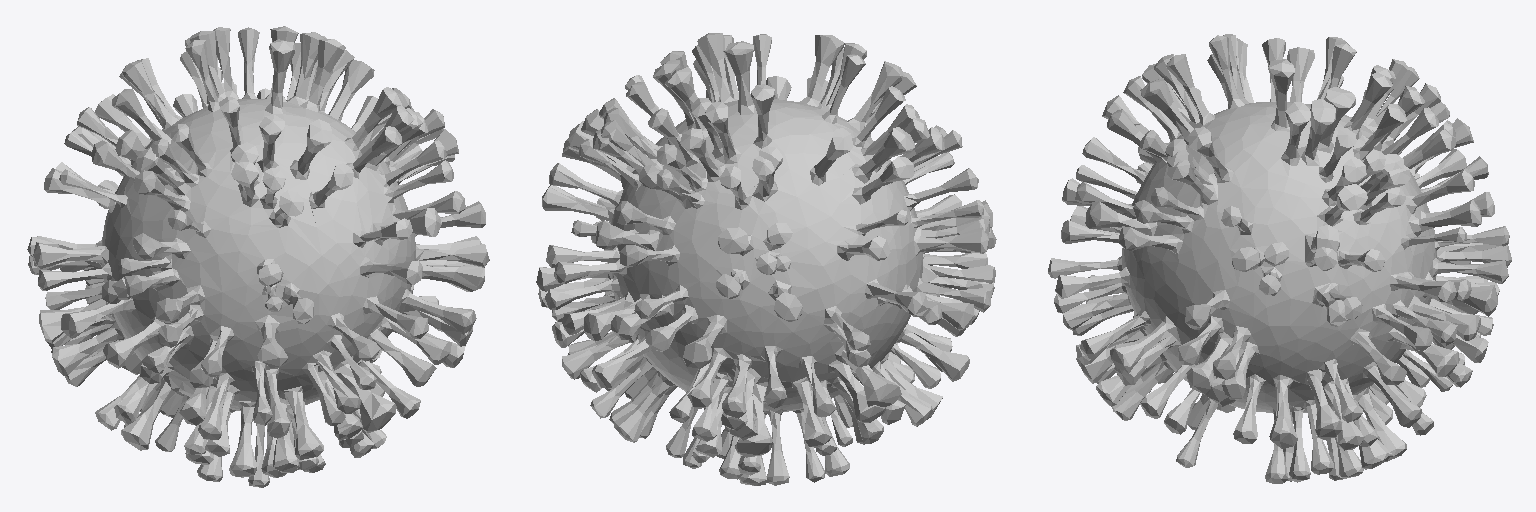
Rendered from corona.obj.
3 views of the same model, side by side, from view 1: azimuth 30°, elevation 25°; view 2: azimuth 150°, elevation 25°; view 3: azimuth 270°, elevation 25° (orthographic).
Visible parts, largest first — view 1: corona; view 2: corona; view 3: corona.
Boxes of the visible parts, x1,y1,x2,y2 form: corona: [27, 26, 489, 487]; corona: [536, 33, 996, 485]; corona: [1048, 34, 1511, 483].
Size of the model in its own units: 0.3586 by 0.362 by 0.3677.